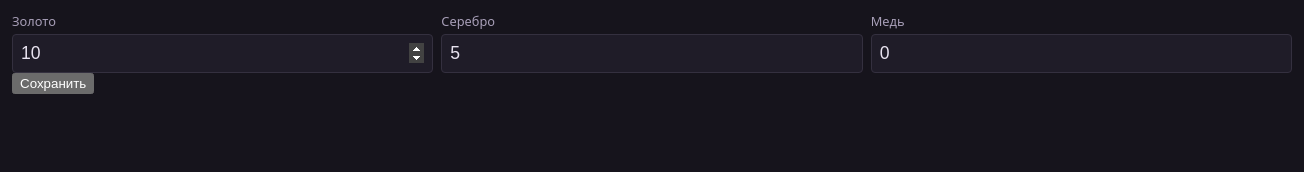
it: CharacterWalletTab › rejects negative currency values
Replace the text in the number field labelled "Серебро" with "-1" at [652, 54], box [441,34,863,73]
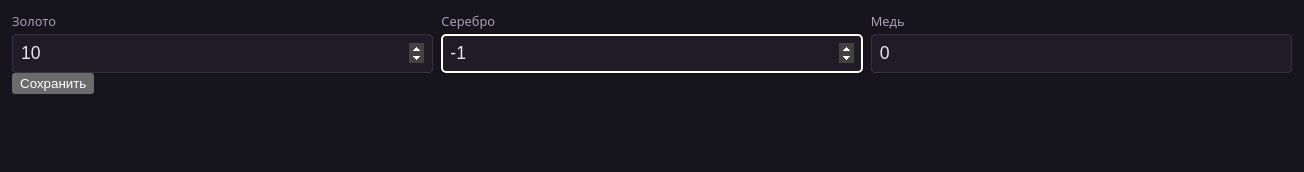
Click the button "Сохранить" at [53, 84], box [12,73,94,94]
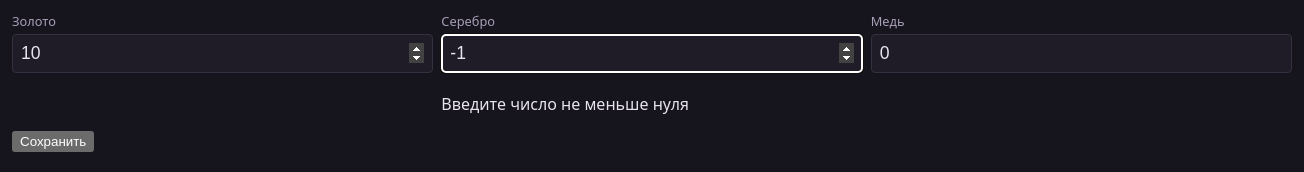
Result: the text "Введите число не меньше нуля" is shown once at [441,93,689,115]
